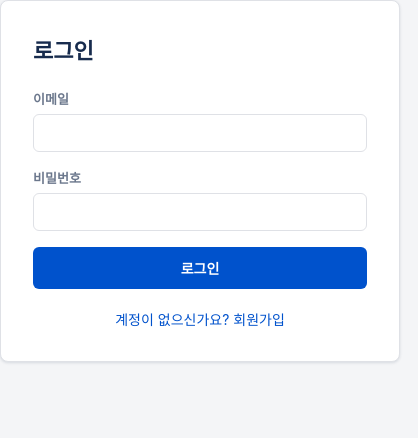
Scenario: AC5(프론트): 401 → 존재여부 비노출 전역 에러, /dashboard 미이동
This screenshot has width=418, height=438.
Type "user@example.com" into the field labelled "이메일".
click(200, 133); type("user@example.com")  # box [33, 114, 367, 152]
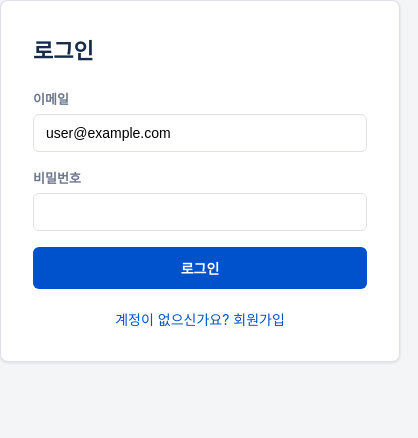
Type "WrongPass9" into the password field labelled "비밀번호".
click(200, 212); type("WrongPass9")  # box [33, 193, 367, 231]
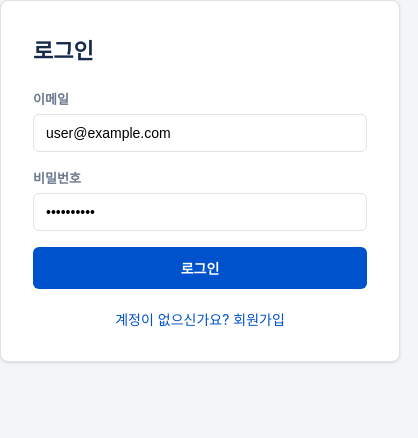
Click the button "로그인".
click(200, 268)  # box [33, 247, 367, 289]
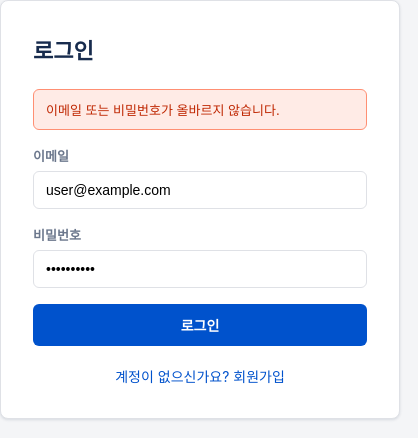
Expected: the text "이메일 또는 비밀번호가 올바르지 않습니다." is shown, [33, 89, 367, 130]
